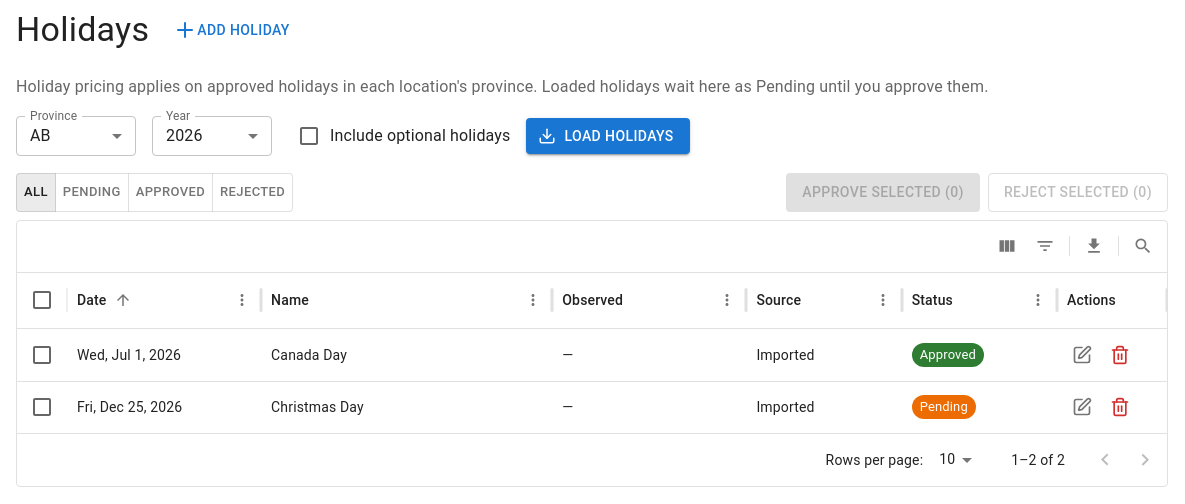
HolidayManagement › filters by status
Check: the text "Christmas Day" is shown, box top-left (261, 381), bottom-right (552, 433)
Click the button "Approved" at (170, 192), box top-left (128, 173), bottom-right (213, 212)
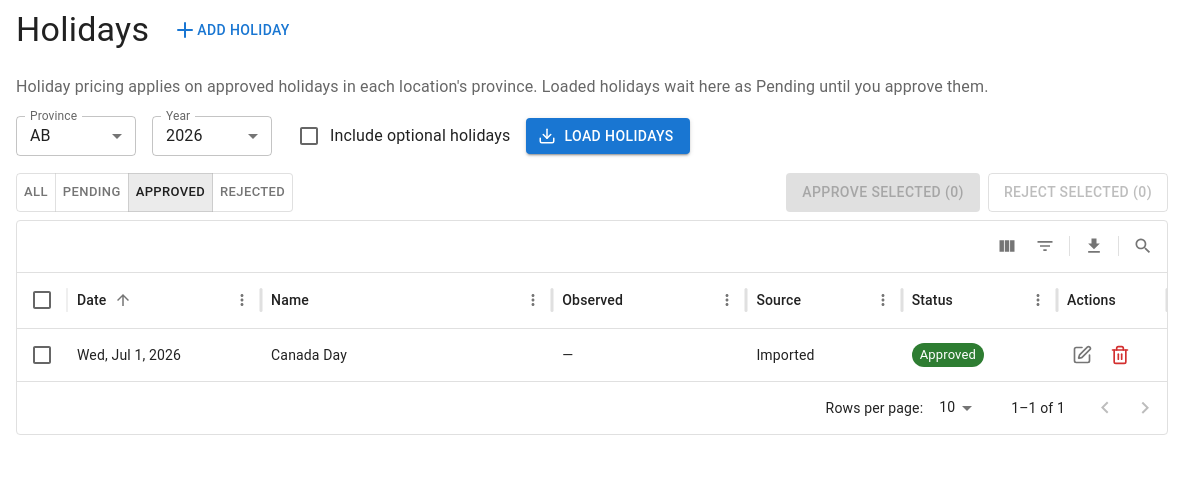
Check: the text "Canada Day" is shown, box top-left (271, 347), bottom-right (347, 363)
Check: the text "Christmas Day" is gone
